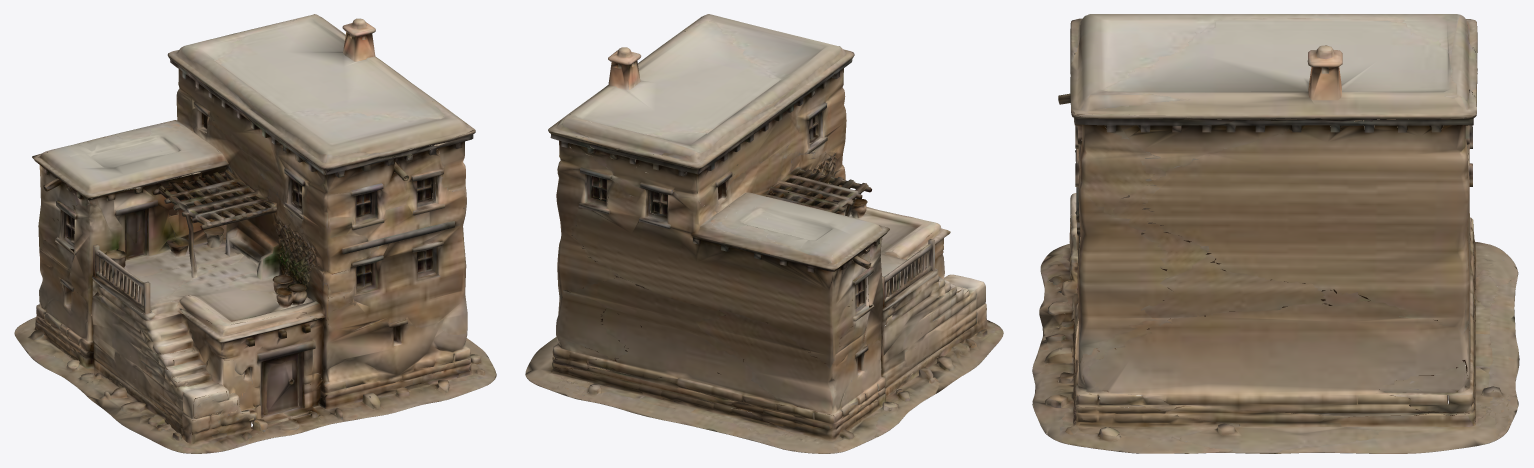
The model's file is house_b.glb.
3 renders of one model, left to right at view 1: azimuth 30°, elevation 25°; view 2: azimuth 150°, elevation 25°; view 3: azimuth 270°, elevation 25°, orthographic. The views are drawn at different scales.
Parts seen in each view (by area): view 1: Object_6, Object_16, Object_14, Object_4, Object_7, Object_15, Object_5, Object_8, Object_10, Object_9, Object_12, Object_17 (+1 smaller); view 2: Object_5, Object_6, Object_15, Object_8, Object_16, Object_17, Object_14, Object_12, Object_11, Object_10, Object_13, Object_9 (+2 smaller); view 3: Object_17, Object_16, Object_6, Object_11, Object_7, Object_8, Object_14, Object_12, Object_13, Object_10, Object_9.
Boxes of the visible parts, x1=… form: Object_6: x1=40, y1=14, x2=468, y2=273; Object_16: x1=114, y1=47, x2=470, y2=442; Object_14: x1=181, y1=35, x2=474, y2=417; Object_4: x1=69, y1=165, x2=307, y2=315; Object_7: x1=168, y1=175, x2=495, y2=442; Object_15: x1=36, y1=123, x2=248, y2=448; Object_5: x1=32, y1=94, x2=328, y2=324; Object_8: x1=43, y1=112, x2=496, y2=435; Object_10: x1=36, y1=118, x2=467, y2=453; Object_9: x1=24, y1=142, x2=494, y2=453; Object_12: x1=14, y1=116, x2=462, y2=431; Object_17: x1=170, y1=62, x2=496, y2=451; Object_5: x1=570, y1=167, x2=931, y2=368; Object_6: x1=548, y1=20, x2=889, y2=361; Object_15: x1=663, y1=206, x2=995, y2=429; Object_8: x1=525, y1=16, x2=950, y2=407; Object_16: x1=552, y1=46, x2=986, y2=370; Object_17: x1=556, y1=71, x2=834, y2=300; Object_14: x1=562, y1=14, x2=950, y2=262; Object_12: x1=526, y1=146, x2=974, y2=453; Object_11: x1=548, y1=21, x2=866, y2=434; Object_10: x1=710, y1=191, x2=1003, y2=436; Object_13: x1=526, y1=121, x2=931, y2=450; Object_9: x1=866, y1=289, x2=1003, y2=440; Object_17: x1=1032, y1=43, x2=1472, y2=445; Object_16: x1=1069, y1=15, x2=1477, y2=416; Object_6: x1=1058, y1=18, x2=1476, y2=387; Object_11: x1=1070, y1=14, x2=1497, y2=442; Object_7: x1=1032, y1=176, x2=1474, y2=443; Object_8: x1=1032, y1=113, x2=1498, y2=453; Object_14: x1=1070, y1=14, x2=1467, y2=272; Object_12: x1=1058, y1=114, x2=1518, y2=453; Object_13: x1=1125, y1=22, x2=1519, y2=443; Object_10: x1=1040, y1=178, x2=1498, y2=438; Object_9: x1=1060, y1=114, x2=1235, y2=453.
Bounding box in the file's own units: 0.8142 × 0.6507 × 0.7676.
1 material, 1 textured.
